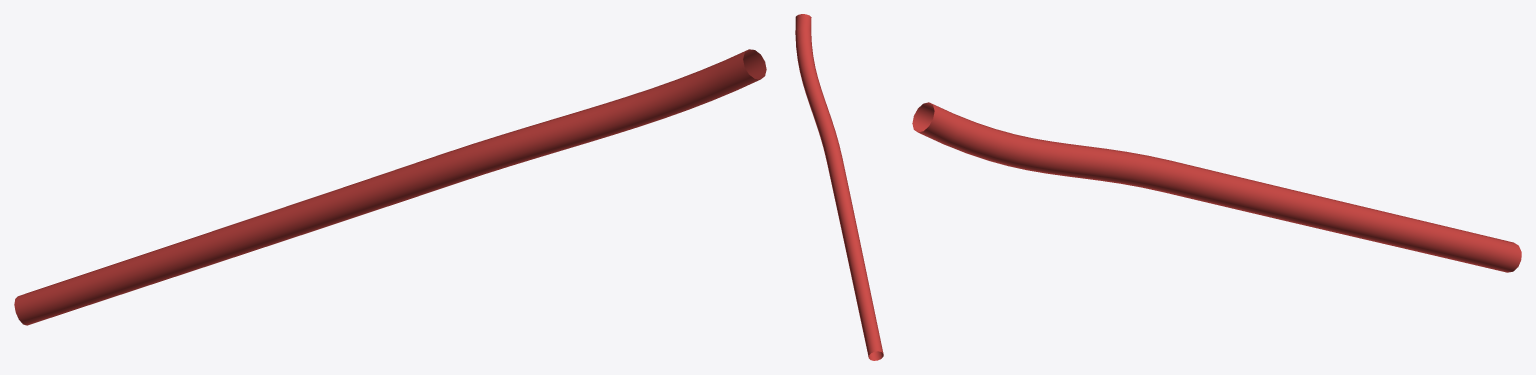
3 renders of one model, left to right at view 1: azimuth 30°, elevation 25°; view 2: azimuth 150°, elevation 25°; view 3: azimuth 270°, elevation 25°, orthographic. The views are drawn at different scales.
Visible parts, largest first — view 1: 右侧尺侧返动脉; view 2: 右侧尺侧返动脉; view 3: 右侧尺侧返动脉.
Boxes of the visible parts, <box> form: 右侧尺侧返动脉: <box>14,49,766,325</box>; 右侧尺侧返动脉: <box>795,14,883,360</box>; 右侧尺侧返动脉: <box>912,102,1521,272</box>.
Bounding box in the file's own units: 0.0327 × 0.0255 × 0.0373.
